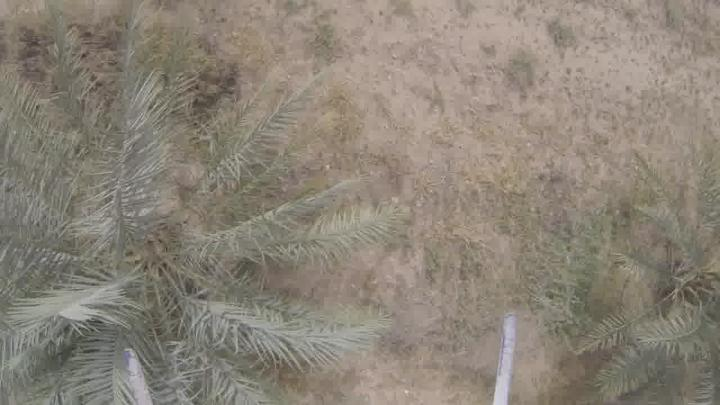Date-Palm-Crown: (0, 109, 294, 401), (610, 191, 720, 383)
